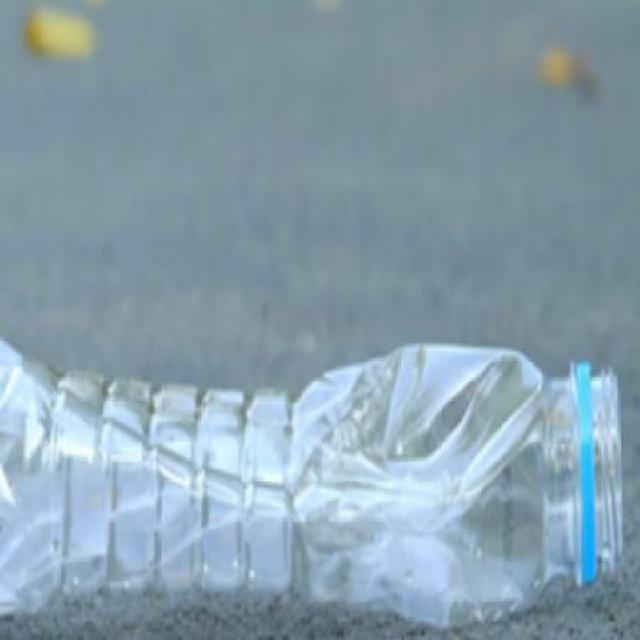bottle: (6, 329, 543, 640)
